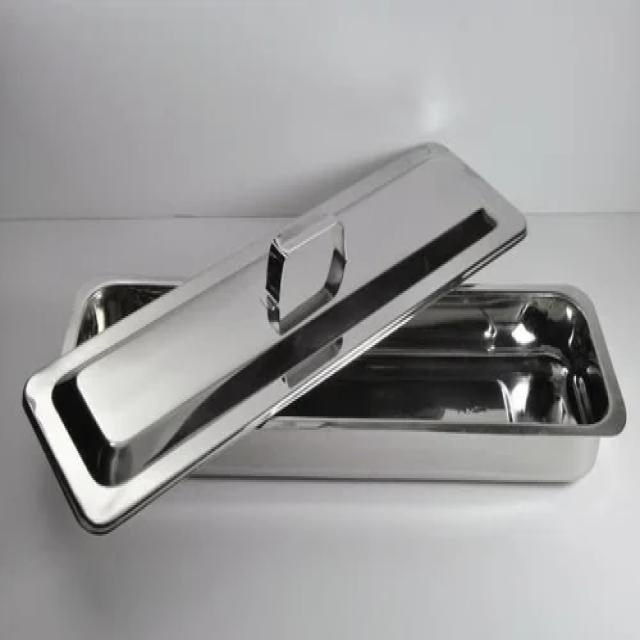Catheter Tray: (46, 203, 624, 531)
